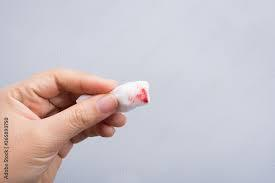Bandage: (111, 81, 149, 111)
cotton: (111, 81, 149, 111)
